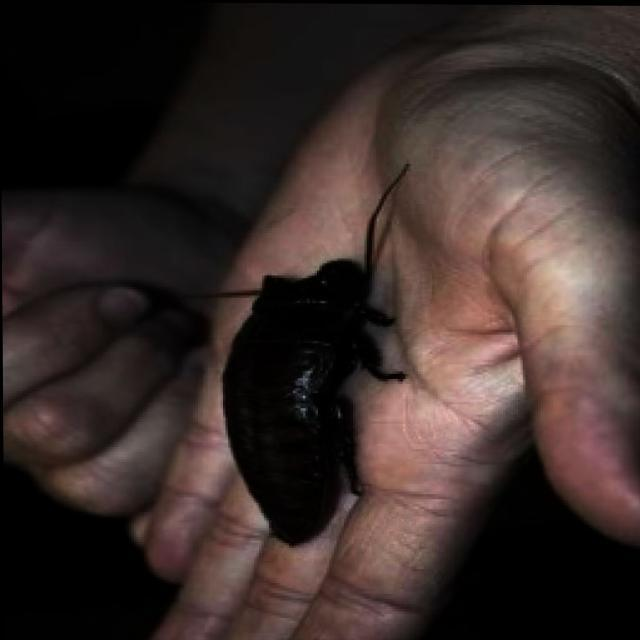cockroach: (214, 159, 419, 549)
